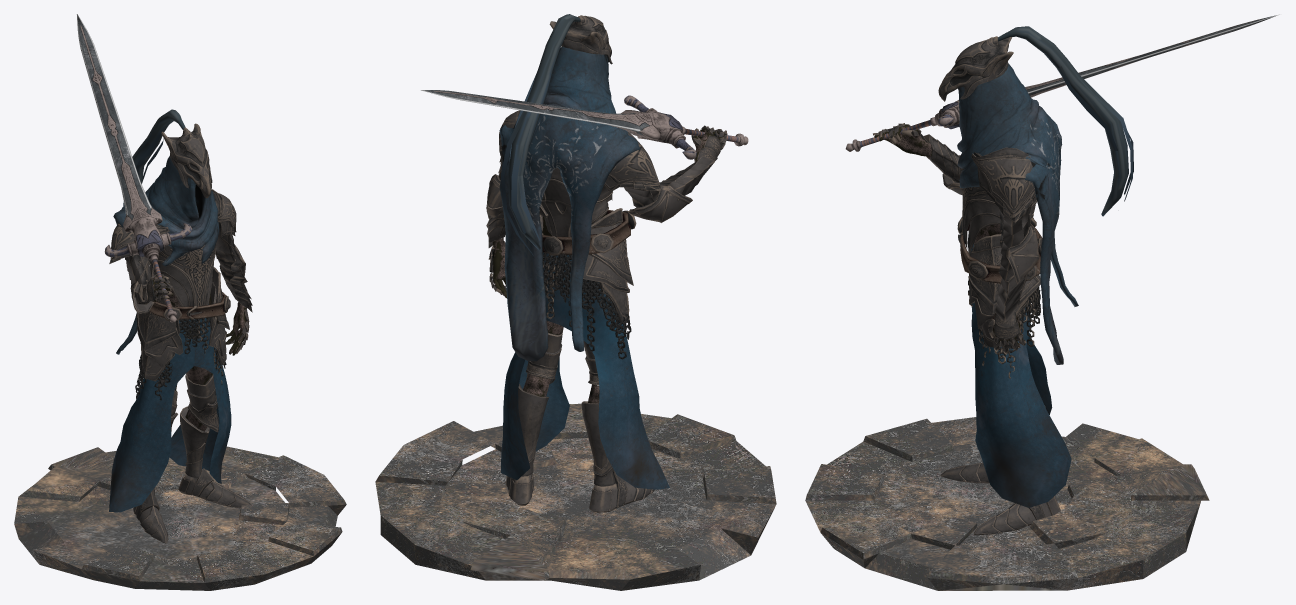
Rendered from knight_artorias.glb.
The picture shows the model from 3 angles, left to right: view 1: azimuth 30°, elevation 25°; view 2: azimuth 150°, elevation 25°; view 3: azimuth 270°, elevation 25°; orthographic projection. The views are drawn at different scales.
Parts seen in each view (by area): view 1: Circle, Plate Armor.001, Skirt.001, Helmet.001, Sword_Cylinder.001, Chainmail.001; view 2: Circle, Helmet.001, Plate Armor.001, Skirt.001, Sword_Cylinder.001, Chainmail.001; view 3: Circle, Helmet.001, Plate Armor.001, Skirt.001, Sword_Cylinder.001, Chainmail.001.
Part boxes in pixels (x1=…): Circle: x1=14, y1=446, x2=346, y2=590; Plate Armor.001: x1=109, y1=189, x2=252, y2=543; Skirt.001: x1=109, y1=292, x2=231, y2=512; Helmet.001: x1=113, y1=109, x2=219, y2=354; Sword_Cylinder.001: x1=76, y1=14, x2=191, y2=322; Chainmail.001: x1=142, y1=275, x2=246, y2=431; Circle: x1=375, y1=403, x2=776, y2=590; Helmet.001: x1=499, y1=14, x2=640, y2=361; Plate Armor.001: x1=486, y1=110, x2=727, y2=512; Skirt.001: x1=501, y1=210, x2=669, y2=489; Sword_Cylinder.001: x1=421, y1=90, x2=748, y2=159; Chainmail.001: x1=492, y1=128, x2=724, y2=403; Circle: x1=805, y1=417, x2=1209, y2=590; Helmet.001: x1=938, y1=26, x2=1133, y2=364; Plate Armor.001: x1=873, y1=123, x2=1060, y2=535; Skirt.001: x1=957, y1=217, x2=1071, y2=507; Sword_Cylinder.001: x1=845, y1=14, x2=1279, y2=151; Chainmail.001: x1=874, y1=124, x2=1024, y2=350.
Size of the model in its own units: 960 by 1342 by 1131.
Materials: 6 (6 with a texture image).
